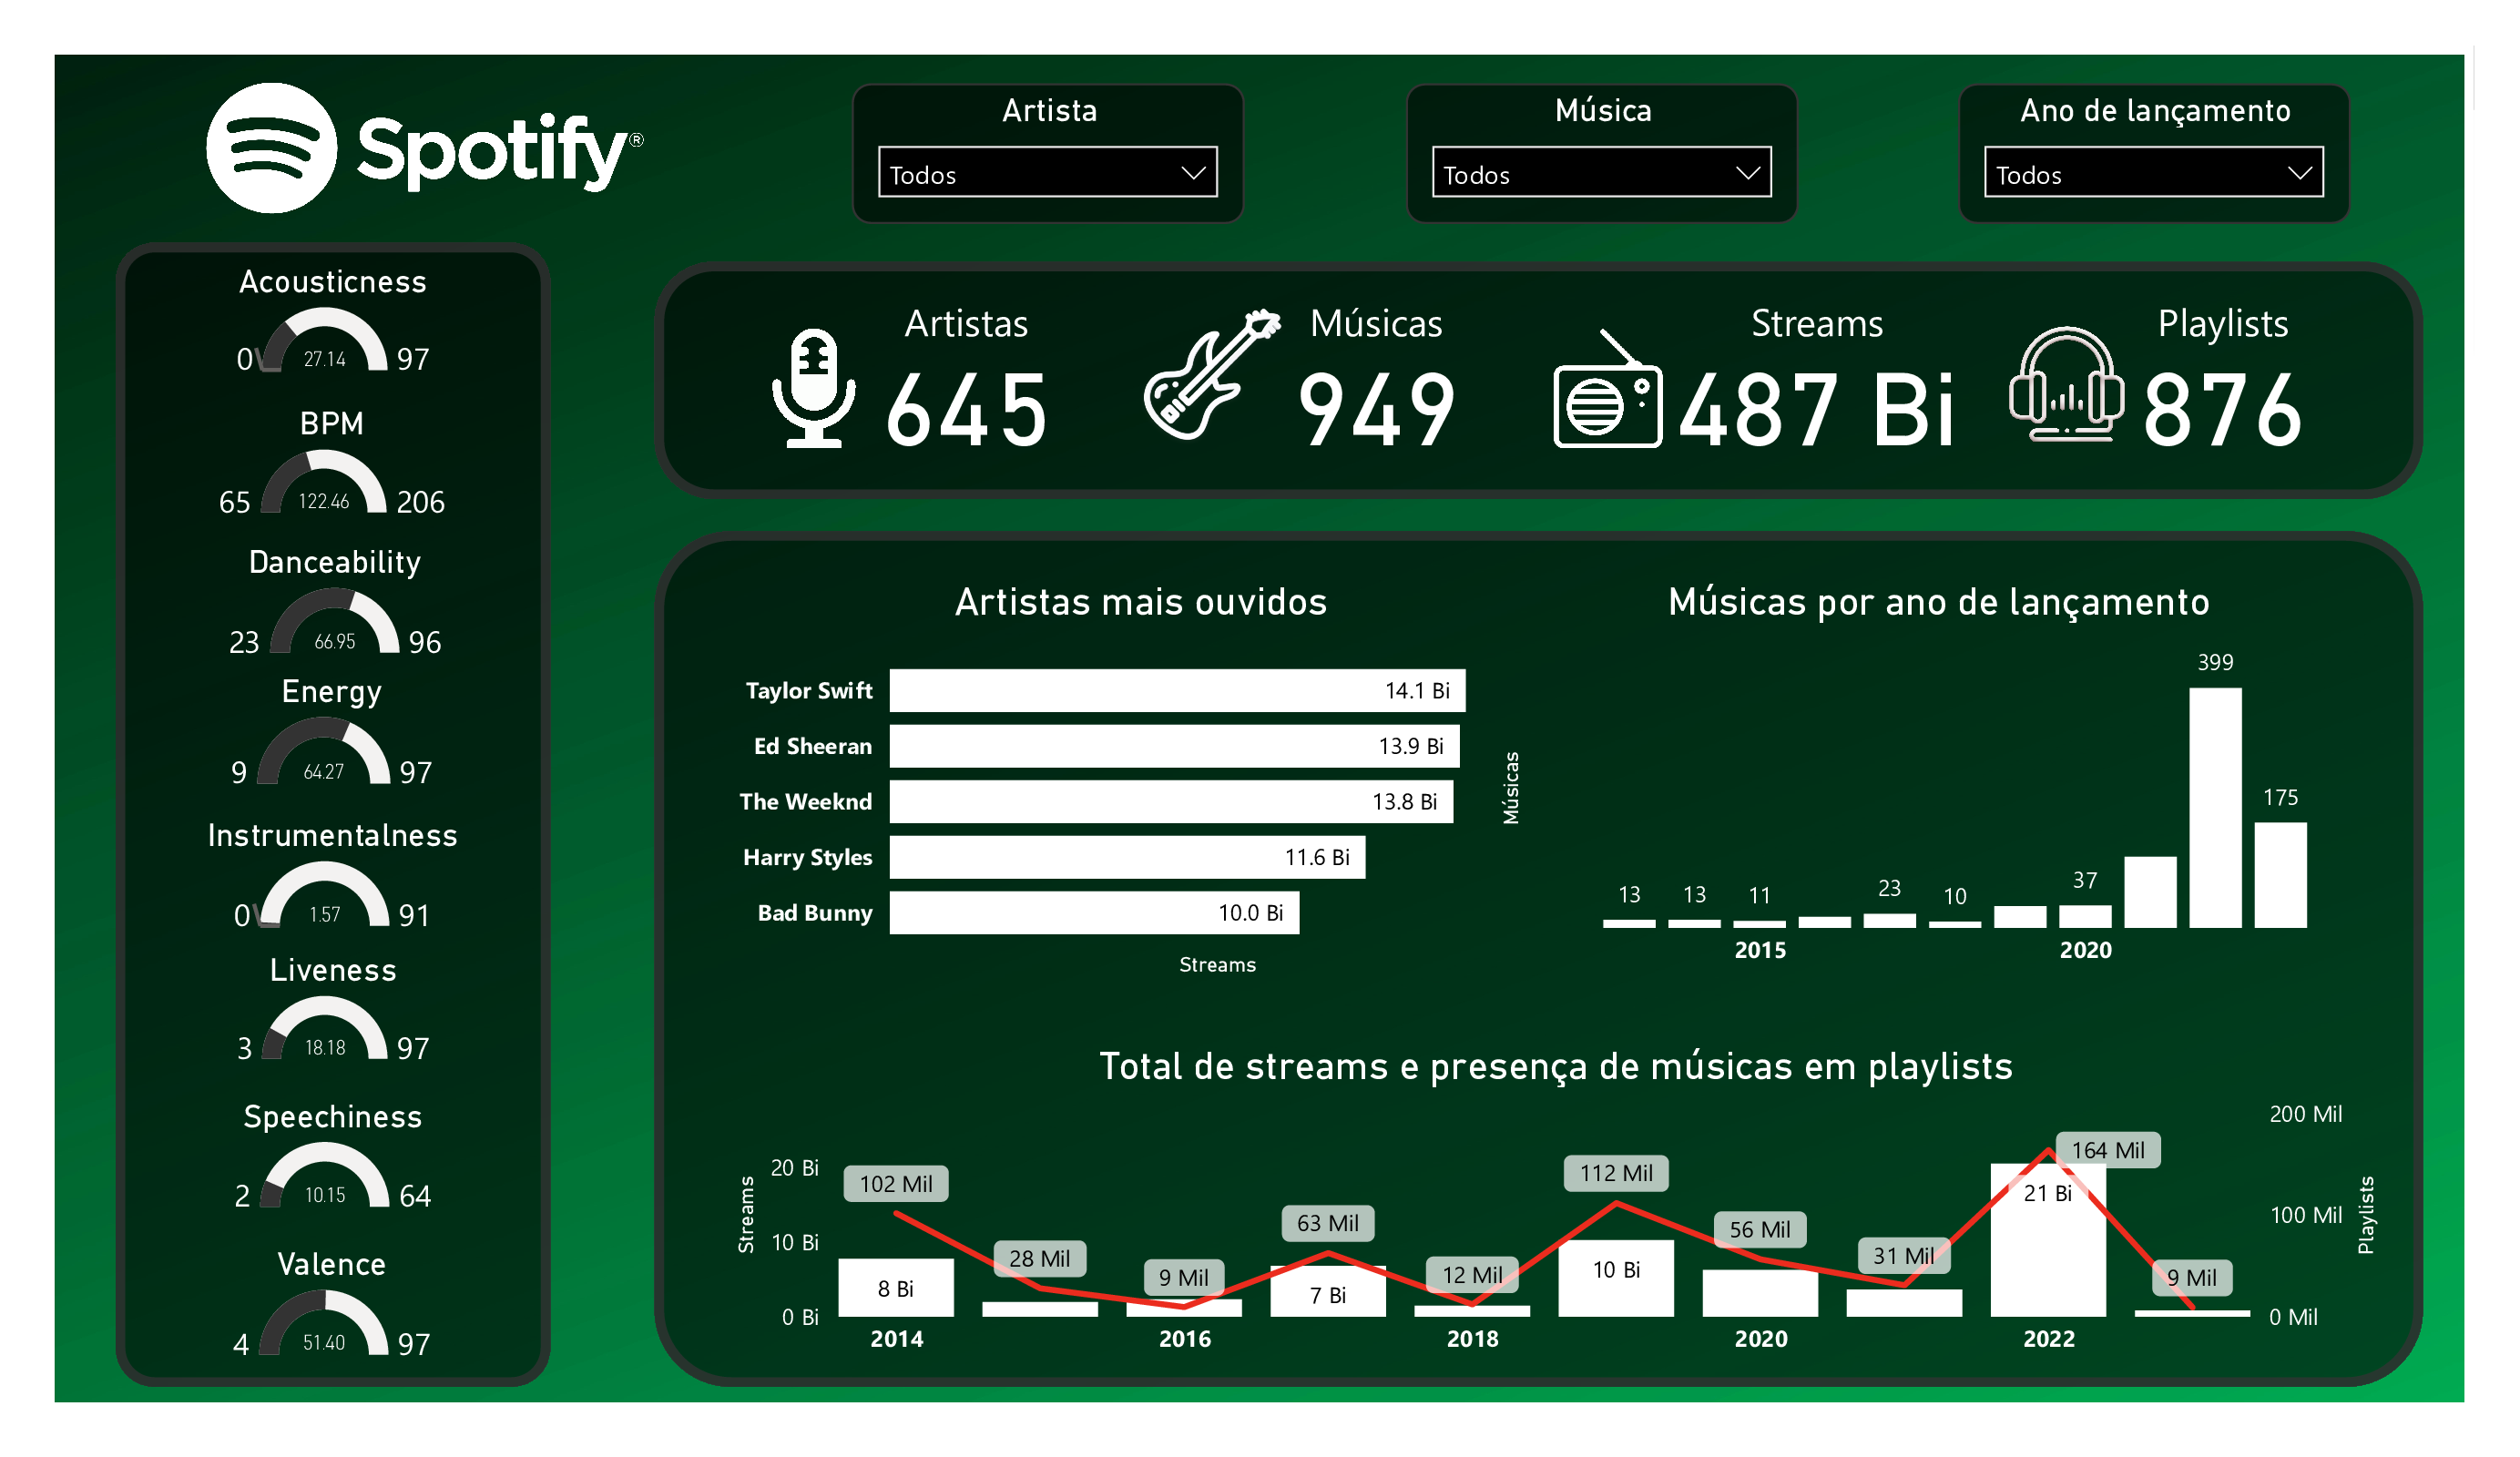

Layout of this report page (visuals, bound fields, positions):
{"tool":"powerbi","page":{"name":"Página 1","canvas":[1280,720],"ordinal":0},"visuals":[{"type":"image","box":[0,0,1280.2,720],"z":0},{"type":"shape","box":[321.1,113.8,931.7,125.3],"z":1000},{"type":"image","box":[27.4,14.4,345.6,79.2],"z":2000},{"type":"card","title":"Artistas","fields":{"Values":["Count(dados_spotify_categorizados.artist_s_name)"]},"box":[424.8,131,121,86.4],"z":3000},{"type":"image","box":[373,144,63.4,73.4],"z":4000},{"type":"card","title":"Músicas","fields":{"Values":["Count(dados_spotify_categorizados.track_id)"]},"box":[640.8,131,121,86.4],"z":5000},{"type":"card","title":"Streams","fields":{"Values":["Sum(dados_spotify_categorizados.streams)"]},"box":[853.9,131,159.8,86.4],"z":6000},{"type":"card","title":"Playlists","fields":{"Values":["Count(dados_spotify_categorizados.in_spotify_playlists)"]},"box":[1081.4,131,133.9,86.4],"z":7000},{"type":"image","box":[771.8,136.8,97.9,97.9],"z":8000},{"type":"shape","box":[37.4,103.7,229,603.4],"z":9000},{"type":"image","box":[558.7,125.3,110.9,97.9],"z":10000},{"type":"image","box":[1023.8,133.9,83.5,89.3],"z":11000},{"type":"slicer","title":"Artista","fields":{"Values":["dados_spotify_categorizados.artist_s_name"]},"box":[424.8,20.2,207.4,73.4],"z":12000},{"type":"slicer","title":"Música","fields":{"Values":["dados_spotify_categorizados.track_name"]},"box":[717.1,20.2,207.4,73.4],"z":13000},{"type":"slicer","title":"Ano de lançamento","fields":{"Values":["dados_spotify_categorizados.released_year"]},"box":[1008,20.2,207.4,73.4],"z":14000},{"type":"shape","box":[321.1,256.3,931.7,450.7],"z":15000},{"type":"gauge","title":"BPM","fields":{"Y":["Avg(dados_spotify_categorizados.bpm)"],"MinValue":["Min(dados_spotify_categorizados.bpm)1"],"MaxValue":["Max(dados_spotify_categorizados.bpm)2"]},"box":[37.4,188.6,227.5,67.7],"z":16000},{"type":"gauge","title":"Energy","fields":{"Y":["Avg(dados_spotify_categorizados.energy__)"],"MinValue":["Min(dados_spotify_categorizados.energy__)1"],"MaxValue":["Max(dados_spotify_categorizados.energy__)2"]},"box":[37.4,329.8,227.5,69.1],"z":17000},{"type":"clusteredBarChart","title":"Artistas mais ouvidos","fields":{"Category":["dados_spotify_categorizados.artist_s_name"],"Y":["Sum(dados_spotify_categorizados.streams)"]},"box":[358.6,280.8,437.8,214.6],"z":23000},{"type":"lineClusteredColumnComboChart","title":"Total de streams e presença de músicas em playlists","fields":{"Category":["dados_spotify_categorizados.released_year"],"Y2":["Sum(dados_spotify_categorizados.soma_playlists)"],"Y":["Sum(dados_spotify_categorizados.streams)"]},"box":[358.6,525.6,875.5,174.2],"z":24001},{"type":"clusteredColumnChart","title":"Músicas por ano de lançamento","fields":{"Category":["dados_spotify_categorizados.released_year"],"Y":["CountNonNull(dados_spotify_categorizados.track_id)"]},"box":[761.8,280.8,472.3,214.6],"z":24002},{"type":"gauge","title":"Acousticness","fields":{"Y":["Avg(dados_spotify_categorizados.acousticness__)"],"MinValue":["Min(dados_spotify_categorizados.acousticness__)1"],"MaxValue":["Max(dados_spotify_categorizados.acousticness__)2"]},"box":[37.4,113.8,229,67.7],"z":24003},{"type":"gauge","title":"Instrumentalness","fields":{"Y":["Avg(dados_spotify_categorizados.instrumentalness__)"],"MinValue":["Min(dados_spotify_categorizados.instrumentalness__)1"],"MaxValue":["Max(dados_spotify_categorizados.instrumentalness__)2"]},"box":[37.4,406.1,229,67.7],"z":24004},{"type":"gauge","title":"Liveness","fields":{"Y":["Avg(dados_spotify_categorizados.liveness__)"],"MinValue":["Min(dados_spotify_categorizados.liveness__)1"],"MaxValue":["Max(dados_spotify_categorizados.liveness__)2"]},"box":[37.4,476.6,229,67.7],"z":24005},{"type":"gauge","title":"Speechiness","fields":{"Y":["Avg(dados_spotify_categorizados.speechiness__)"],"MinValue":["Min(dados_spotify_categorizados.speechiness__)1"],"MaxValue":["Max(dados_spotify_categorizados.speechiness__)2"]},"box":[37.4,554.4,229,67.7],"z":24006},{"type":"gauge","title":"Valence","fields":{"Y":["Avg(dados_spotify_categorizados.valence__)"],"MinValue":["Min(dados_spotify_categorizados.valence__)1"],"MaxValue":["Max(dados_spotify_categorizados.valence__)2"]},"box":[37.4,632.2,227.5,67.7],"z":24007},{"type":"gauge","title":"Danceability","fields":{"Y":["Avg(dados_spotify_categorizados.danceability__)"],"MinValue":["Min(dados_spotify_categorizados.danceability__)"],"MaxValue":["Max(dados_spotify_categorizados.danceability__)"]},"box":[38.9,262.1,227.5,67.7],"z":24008}]}

Visuals, with their boxes on the page's 1280x720 design canvas (x1, y1, x2, y2). These are canvas units, not pixel positions in the 2520x1457 screenshot, which may show the page scaled, cropped or inside an application window:
image: 0:0:1280:720
shape: 321:114:1253:239
image: 27:14:373:94
"Artistas" card: 425:131:546:217
image: 373:144:436:217
"Músicas" card: 641:131:762:217
"Streams" card: 854:131:1014:217
"Playlists" card: 1081:131:1215:217
image: 772:137:870:235
shape: 37:104:266:707
image: 559:125:670:223
image: 1024:134:1107:223
"Artista" slicer: 425:20:632:94
"Música" slicer: 717:20:924:94
"Ano de lançamento" slicer: 1008:20:1215:94
shape: 321:256:1253:707
"BPM" gauge: 37:189:265:256
"Energy" gauge: 37:330:265:399
"Artistas mais ouvidos" clusteredBarChart: 359:281:796:495
"Total de streams e presença de músicas em playlists" lineClusteredColumnComboChart: 359:526:1234:700
"Músicas por ano de lançamento" clusteredColumnChart: 762:281:1234:495
"Acousticness" gauge: 37:114:266:182
"Instrumentalness" gauge: 37:406:266:474
"Liveness" gauge: 37:477:266:544
"Speechiness" gauge: 37:554:266:622
"Valence" gauge: 37:632:265:700
"Danceability" gauge: 39:262:266:330
